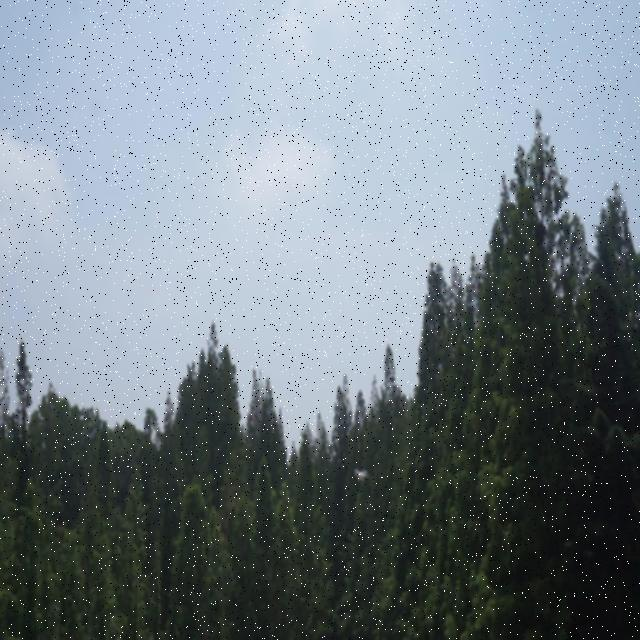UAV: (354, 469, 369, 482)
